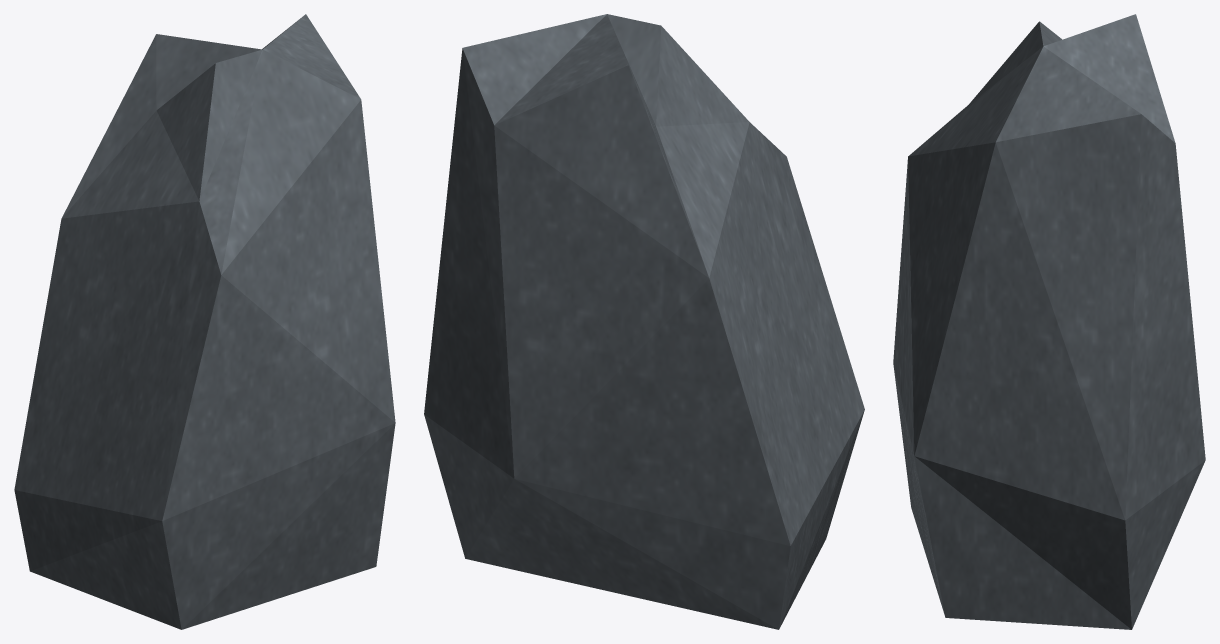
The model's file is boulder_split_monolith.glb.
3 renders of one model, left to right at view 1: azimuth 30°, elevation 25°; view 2: azimuth 150°, elevation 25°; view 3: azimuth 270°, elevation 25°, orthographic. The views are drawn at different scales.
Parts seen in each view (by area): view 1: boulder_split_monolith; view 2: boulder_split_monolith; view 3: boulder_split_monolith.
Boxes of the visible parts, <box> form: boulder_split_monolith: <box>14,14,395,629</box>; boulder_split_monolith: <box>424,14,864,629</box>; boulder_split_monolith: <box>893,14,1205,629</box>.
Size of the model in its own units: 1.64 by 2.29 by 1.21.
1 material, 1 textured.
